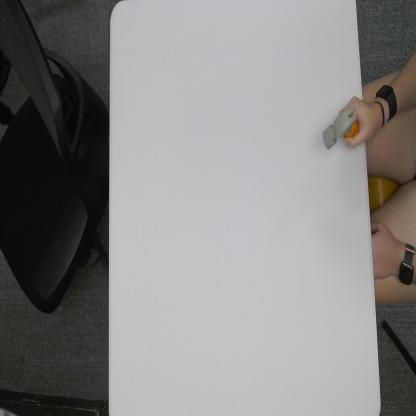Hammer: (323, 110, 359, 148)
Hand: (342, 95, 381, 149)
